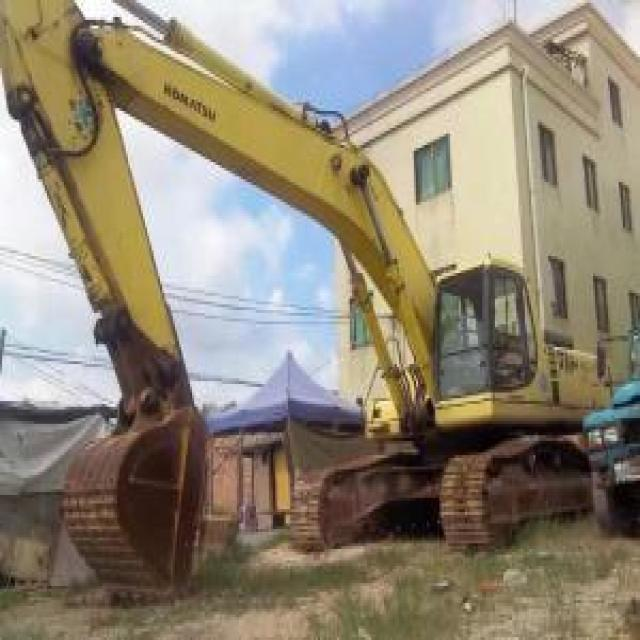excavator: (1, 1, 635, 599)
